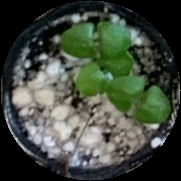Basil: (107, 77, 171, 128), (77, 48, 139, 98), (61, 20, 136, 59)
